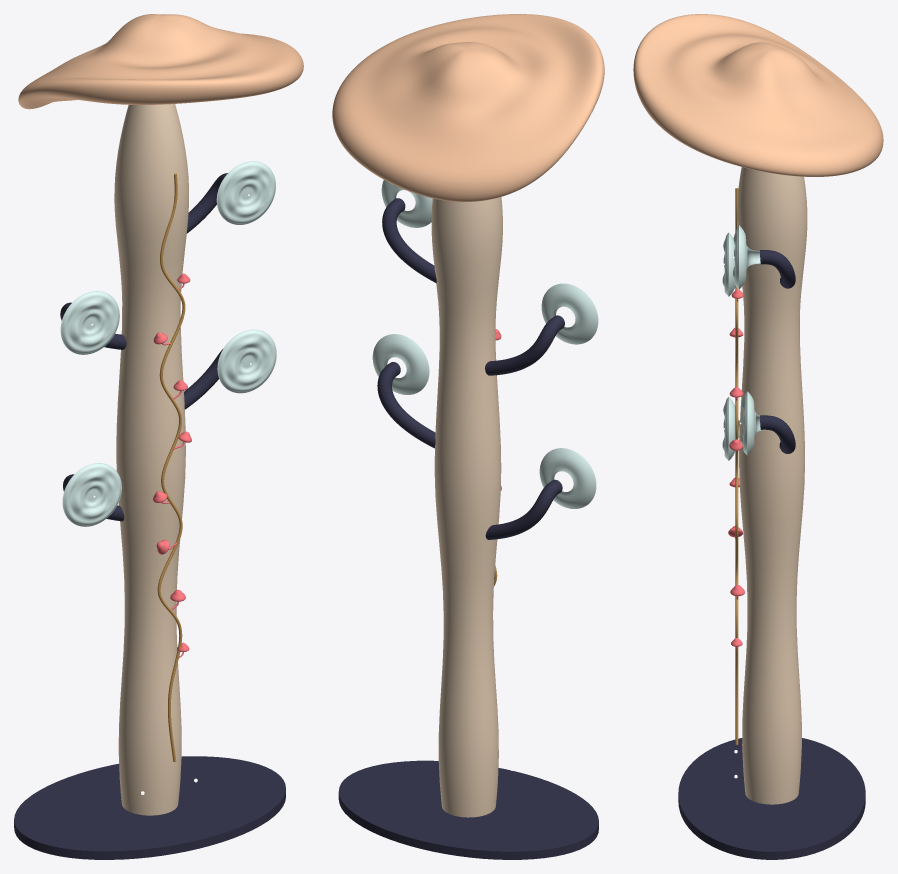
Rendered from tower.glb.
3 renders of one model, left to right at view 1: azimuth 30°, elevation 25°; view 2: azimuth 150°, elevation 25°; view 3: azimuth 270°, elevation 25°, orthographic. The views are drawn at different scales.
Visible parts, largest first — view 1: Mast, Base, Crown, Responder, Progress Bar, object 20, object 18; view 2: Crown, Mast, Base, Responder, object 20, object 18, object 19, object 21; view 3: Mast, Crown, Base, Responder, Progress Bar, object 20, object 18.
Boxes of the visible parts, x1,y1,x2,y2 form: Mast: (114, 104, 188, 815); Base: (14, 756, 285, 859); Crown: (18, 14, 303, 109); Responder: (60, 161, 276, 526); Progress Bar: (153, 173, 191, 761); object 20: (184, 348, 223, 409); object 18: (186, 173, 227, 233); Crown: (332, 14, 604, 201); Mast: (431, 197, 502, 817); Base: (338, 760, 598, 859); Responder: (372, 180, 598, 508); object 20: (377, 362, 435, 448); object 18: (382, 198, 436, 283); object 19: (485, 315, 564, 375); object 21: (485, 479, 562, 539); Mast: (737, 167, 807, 804); Crown: (633, 14, 883, 176); Base: (678, 738, 865, 859); Responder: (722, 225, 765, 460); Progress Bar: (728, 188, 744, 744); object 20: (760, 415, 795, 453); object 18: (760, 250, 795, 288).
Size of the model in its own units: 0.7838 by 2.31 by 0.6931.
